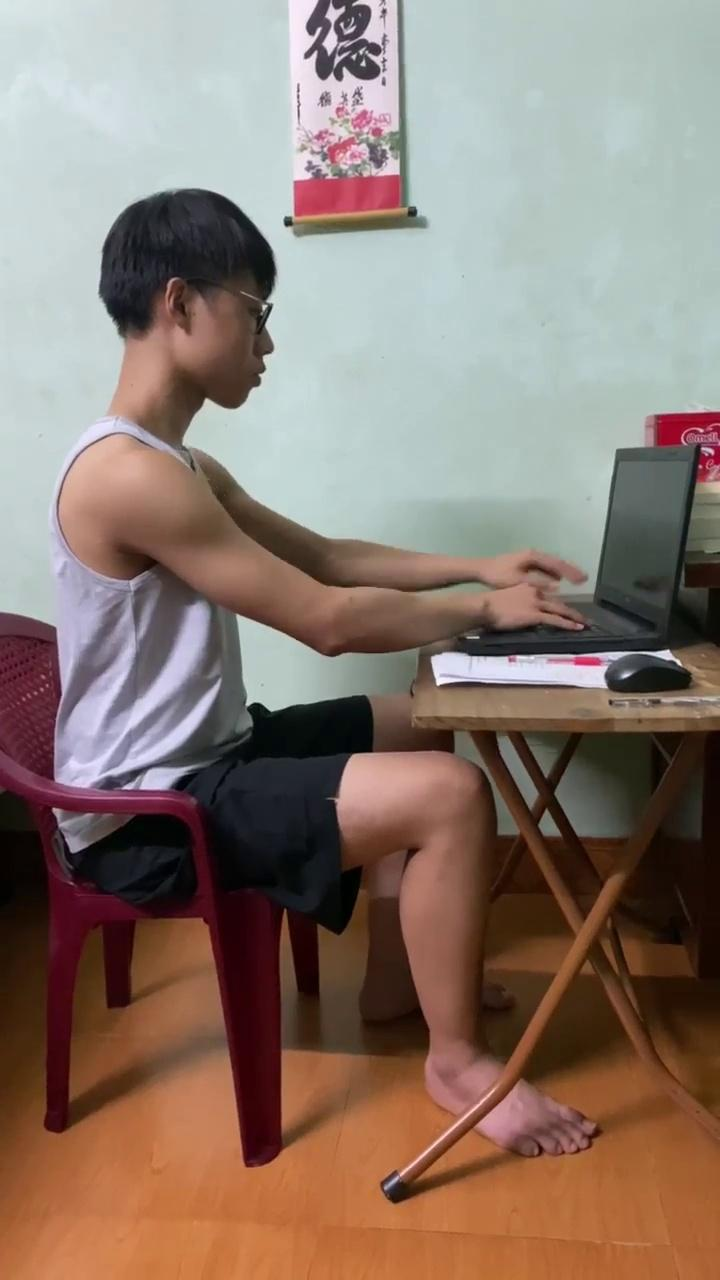GoodPosture: (38, 206, 570, 1131)
